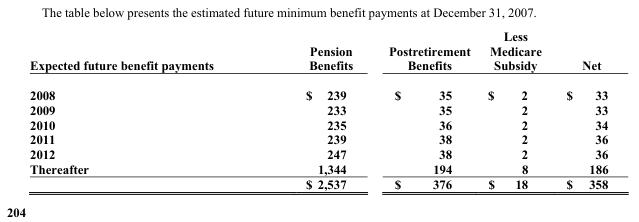table: (28, 28, 607, 190)
table column: (28, 28, 258, 190), (258, 28, 370, 190), (370, 28, 478, 190), (478, 28, 553, 190), (553, 28, 607, 190)
table column header: (28, 28, 607, 80)
table row: (28, 28, 607, 80), (28, 80, 607, 102), (28, 102, 607, 117), (28, 131, 607, 146), (28, 146, 607, 161), (28, 161, 607, 176), (28, 117, 607, 131), (28, 176, 607, 190)
